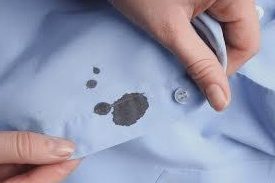wine: (94, 94, 154, 126), (83, 79, 106, 95), (88, 61, 105, 77)
